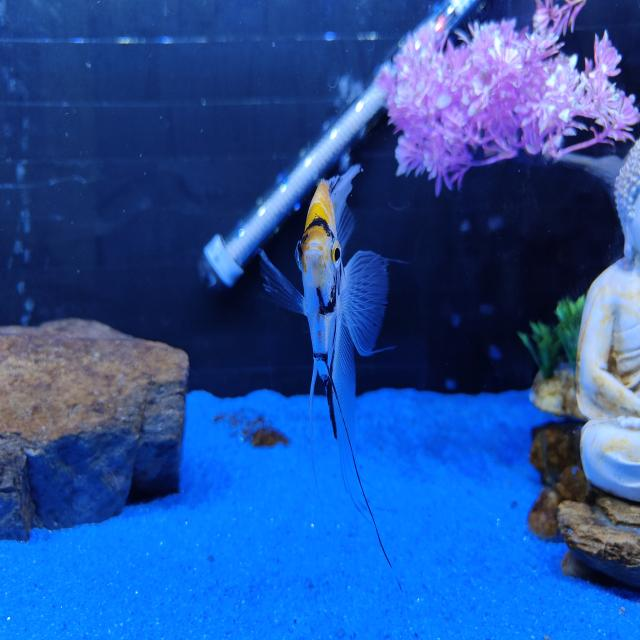Fish: (260, 165, 390, 566)
